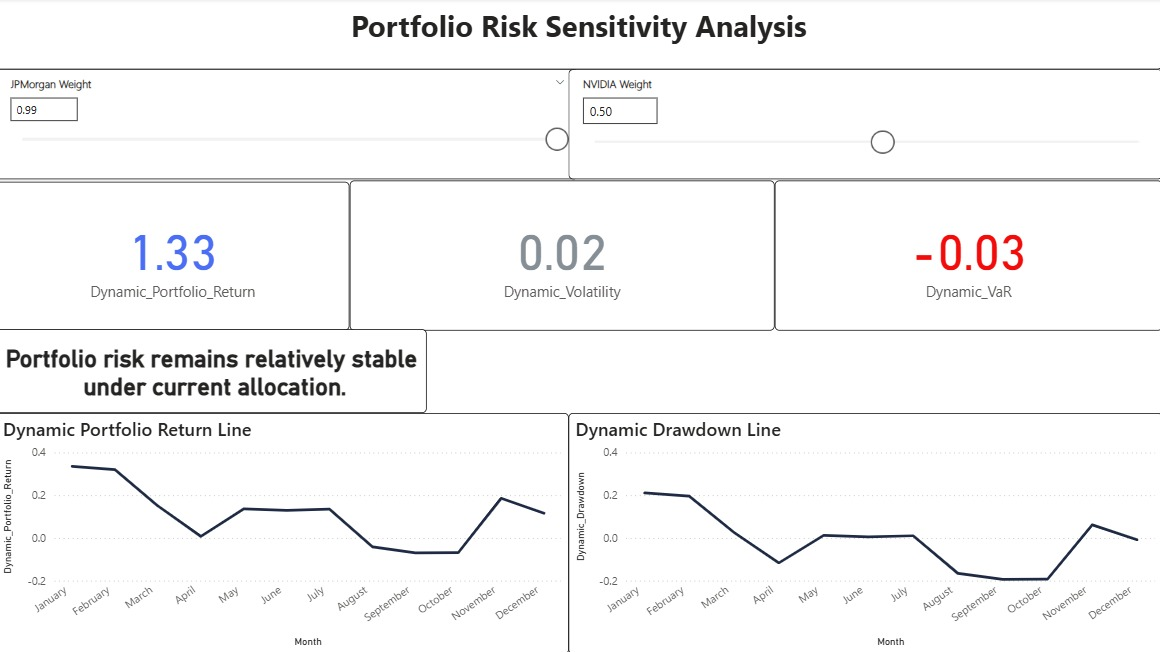

Layout of this report page (visuals, bound fields, positions):
{"tool":"powerbi","page":{"name":"Page 2","canvas":[1280,720],"ordinal":1},"visuals":[{"type":"textbox","box":[0,0,1280.3,78.2],"z":2},{"type":"card","fields":{"Values":["JPMorgan Weight.Dynamic_Portfolio_Return"]},"box":[0,201.7,388.1,163.4],"z":9},{"type":"card","fields":{"Values":["JPMorgan Weight.Dynamic_Volatility"]},"box":[388.1,200.9,466.4,165.1],"z":10},{"type":"card","fields":{"Values":["JPMorgan Weight.Dynamic_VaR"]},"box":[854.5,200.9,425.5,165.1],"z":11},{"type":"lineChart","title":"Dynamic Portfolio Return Line","fields":{"Y":["JPMorgan Weight.Dynamic_Portfolio_Return"],"Category":["risk_dashboard_data.Date.Variation.Date Hierarchy.Month"]},"box":[0,455.6,628.5,264.8],"z":12},{"type":"lineChart","title":"Dynamic Drawdown Line","fields":{"Category":["risk_dashboard_data.Date.Variation.Date Hierarchy.Month"],"Y":["Assets_Table.Dynamic_Drawdown"]},"box":[628.5,455.6,651.8,264.8],"z":13},{"type":"card","fields":{"Values":["JPMorgan Weight.Dynamic_Insight"]},"box":[0,364.3,473.2,91.9],"z":14},{"type":"slicer","fields":{"Values":["JPMorgan Weight 2.JPMorgan Weight"]},"box":[0,78.2,639.5,120.8],"z":16},{"type":"slicer","fields":{"Values":["NVIDIA Weight 2.NVIDIA Weight"]},"box":[628.5,78.2,651.8,120.8],"z":17}]}

Visuals, with their boxes in screenshot pixels (x1, y1, x2, y2), scaled from the page's 1280x720 canvas onto the 1160x652 screenshot:
textbox: box(0, 0, 1159, 71)
card - JPMorgan Weight.Dynamic_Portfolio_Return: box(0, 183, 352, 331)
card - JPMorgan Weight.Dynamic_Volatility: box(352, 182, 774, 331)
card - JPMorgan Weight.Dynamic_VaR: box(774, 182, 1159, 331)
"Dynamic Portfolio Return Line" lineChart: box(0, 413, 570, 651)
"Dynamic Drawdown Line" lineChart: box(570, 413, 1159, 651)
card - JPMorgan Weight.Dynamic_Insight: box(0, 330, 429, 413)
slicer - JPMorgan Weight 2.JPMorgan Weight: box(0, 71, 580, 180)
slicer - NVIDIA Weight 2.NVIDIA Weight: box(570, 71, 1159, 180)
